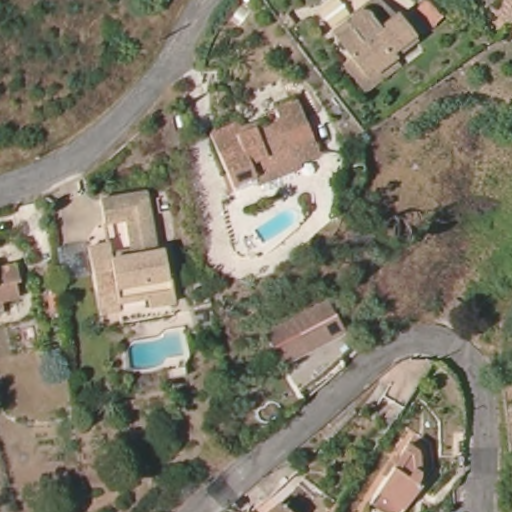pool: (122, 326, 191, 373), (255, 211, 300, 246)
